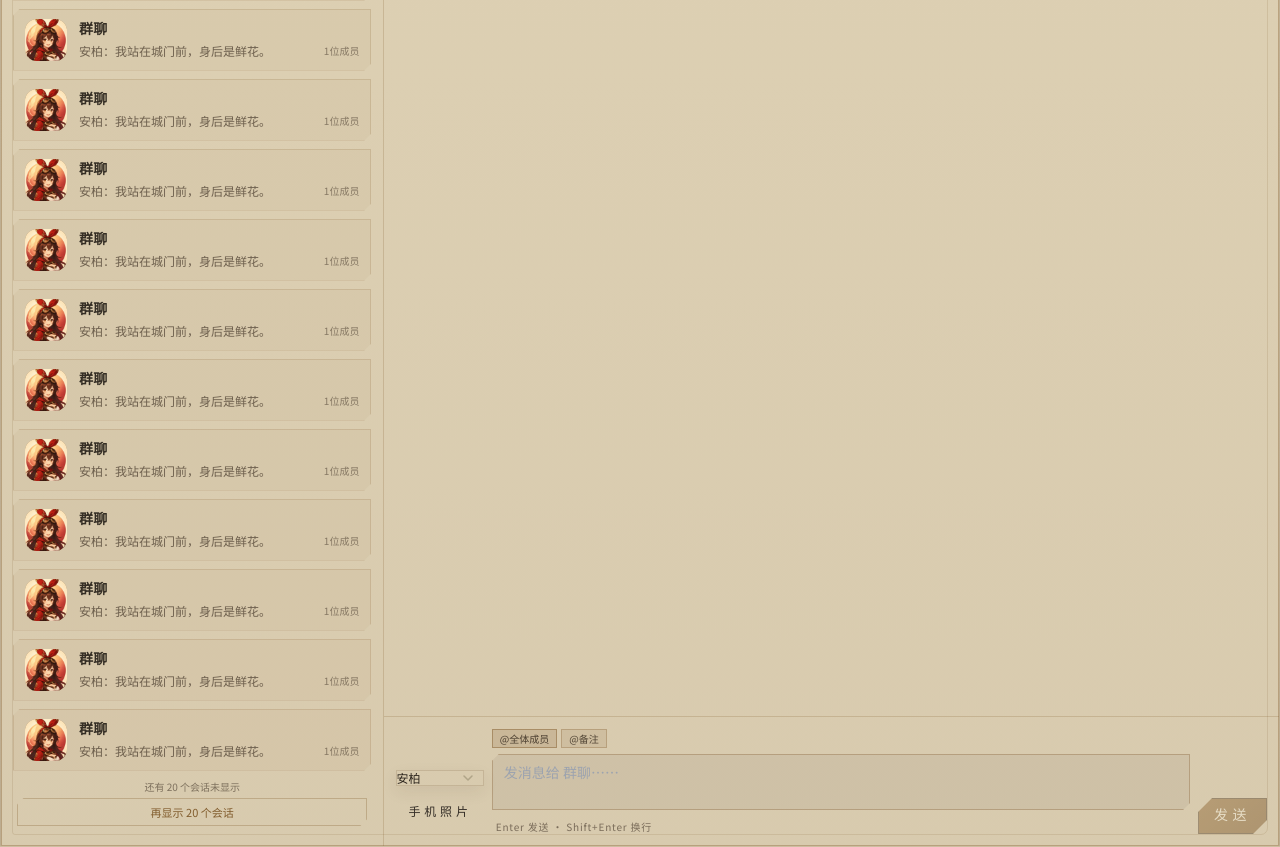
confirmed phone photos › opens the photo preview for a visible chat beyond the first page of conversation rows
(page scrolled)
Click the button "手机照片" at (440, 812), box [396, 790, 484, 834]
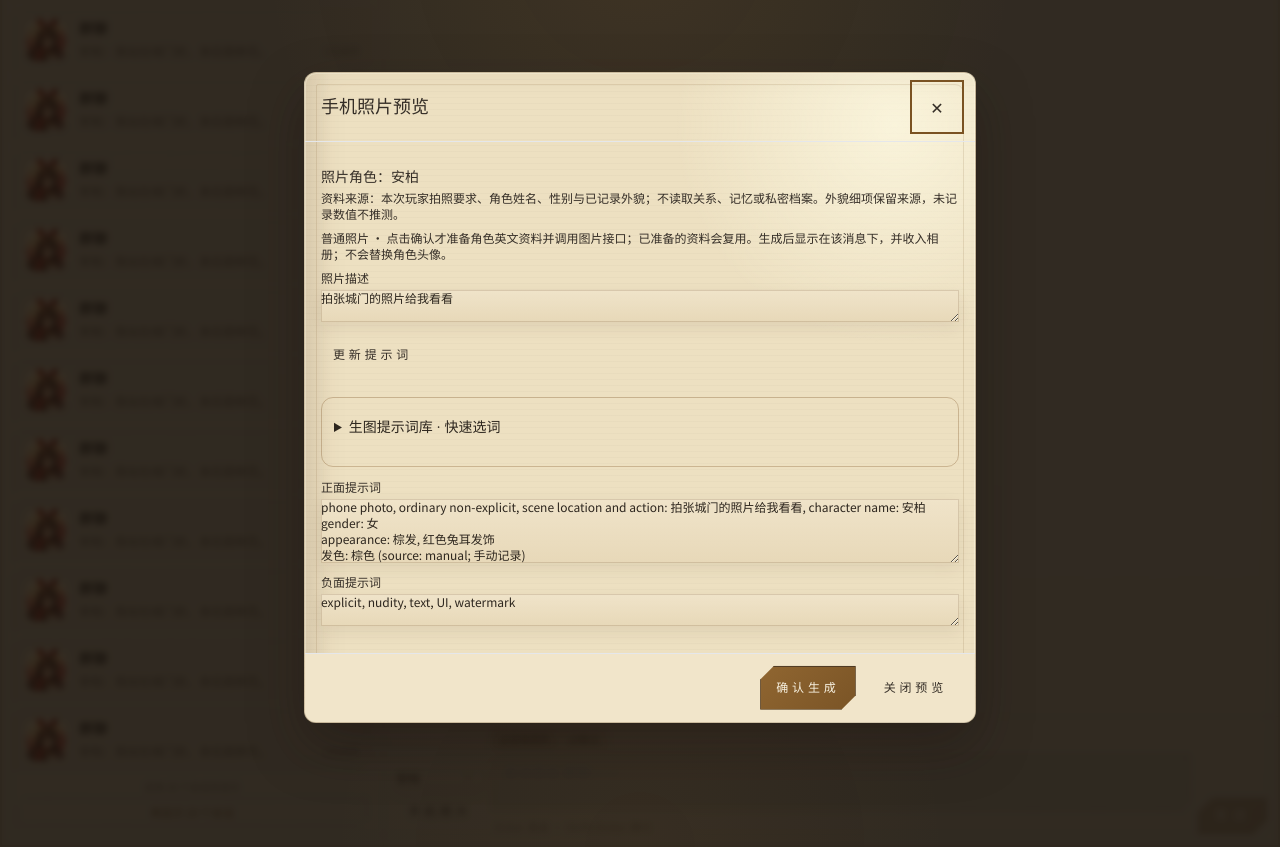
expect the dialog named "手机照片预览" is shown: met, box [304, 72, 976, 722]
